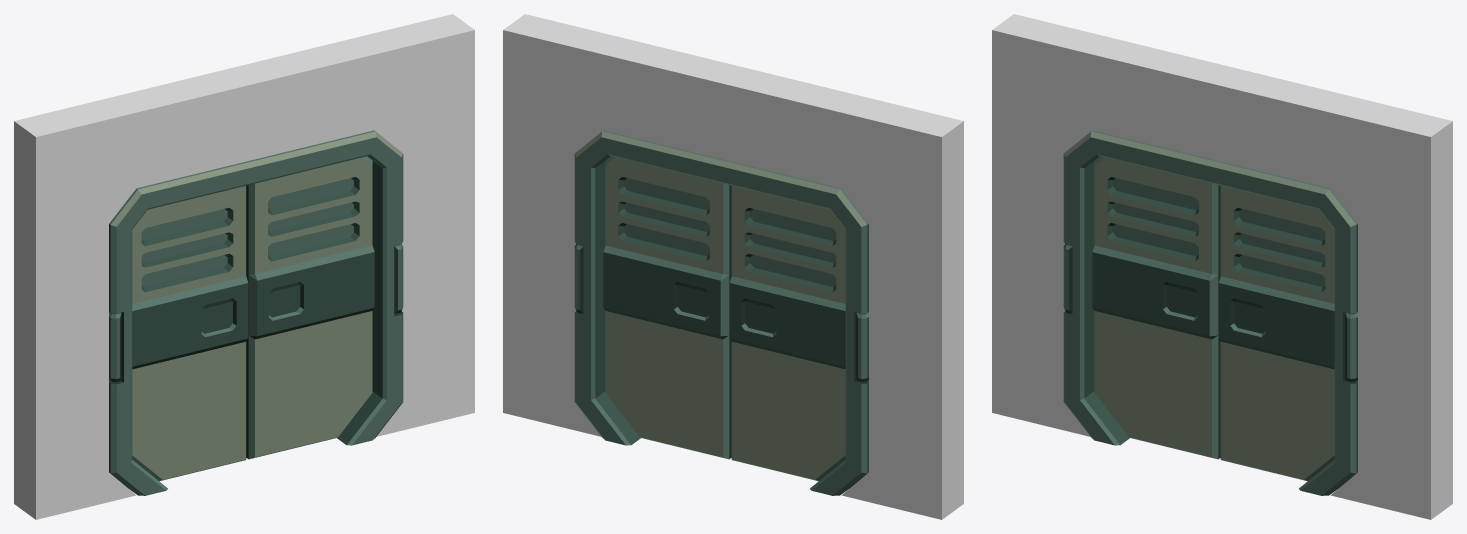
The model's file is CR_Door.fbx.
The picture shows the model from 3 angles, left to right: view 1: azimuth 30°, elevation 25°; view 2: azimuth 150°, elevation 25°; view 3: azimuth 330°, elevation 25°; orthographic projection.
Visible parts, largest first — view 1: CR_Door_Wall, CR_Door1, CR_Door2, CR_Door; view 2: CR_Door_Wall, CR_Door1, CR_Door2, CR_Door; view 3: CR_Door_Wall, CR_Door2, CR_Door1, CR_Door.
Boxes of the visible parts, bbox=[...] form: CR_Door_Wall: bbox=[14, 14, 474, 519]; CR_Door1: bbox=[246, 156, 374, 459]; CR_Door2: bbox=[132, 186, 248, 481]; CR_Door: bbox=[109, 130, 403, 495]; CR_Door_Wall: bbox=[503, 14, 963, 519]; CR_Door1: bbox=[603, 156, 731, 459]; CR_Door2: bbox=[729, 186, 845, 481]; CR_Door: bbox=[574, 130, 868, 495]; CR_Door_Wall: bbox=[992, 14, 1452, 519]; CR_Door2: bbox=[1092, 156, 1220, 459]; CR_Door1: bbox=[1218, 186, 1334, 481]; CR_Door: bbox=[1063, 130, 1357, 495].
Bounding box in the file's own units: 3 × 2.5 × 0.3453.
